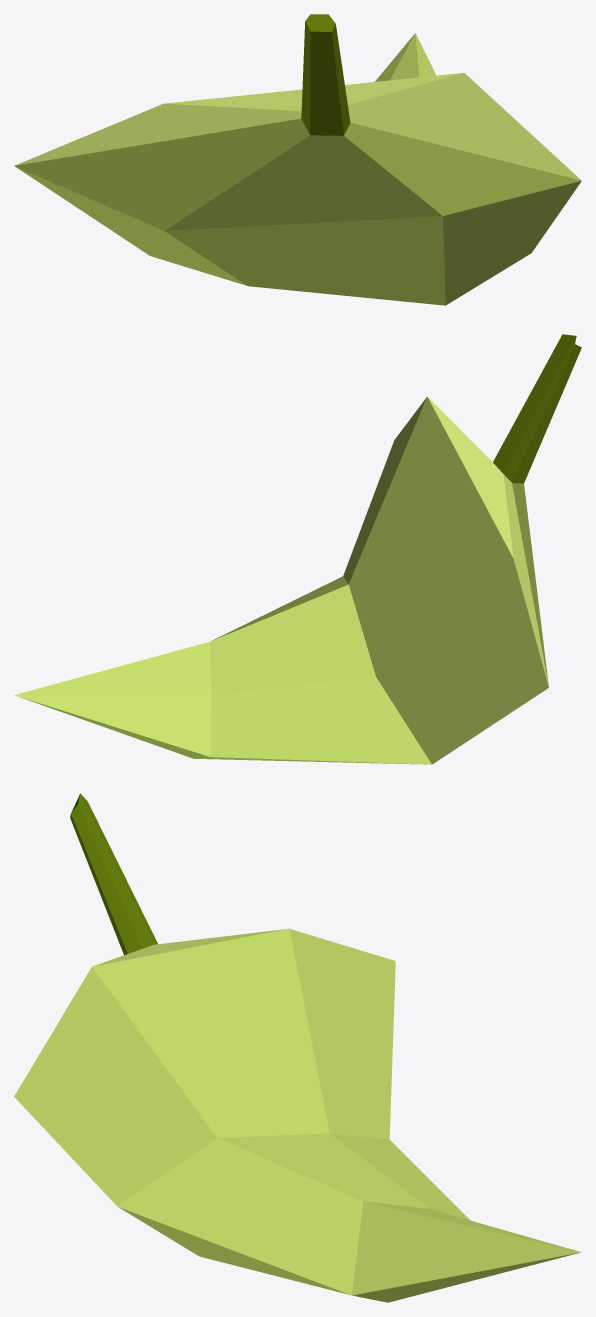
File: Leaf1_Alt2.fbx
The picture shows the model from 3 angles, top to bottom: view 1: azimuth 30°, elevation 25°; view 2: azimuth 150°, elevation 25°; view 3: azimuth 270°, elevation 25°; orthographic projection. The views are drawn at different scales.
Visible parts, largest first — view 1: Leaf1_Alt2; view 2: Leaf1_Alt2; view 3: Leaf1_Alt2.
Part boxes in pixels (bbox=[...]): Leaf1_Alt2: bbox=[14, 14, 581, 305]; Leaf1_Alt2: bbox=[14, 334, 581, 764]; Leaf1_Alt2: bbox=[14, 793, 581, 1302].
Size of the model in its own units: 0.268 by 0.1977 by 0.2746.
